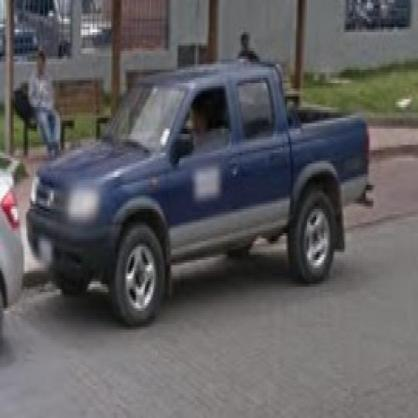car: (32, 65, 370, 333)
